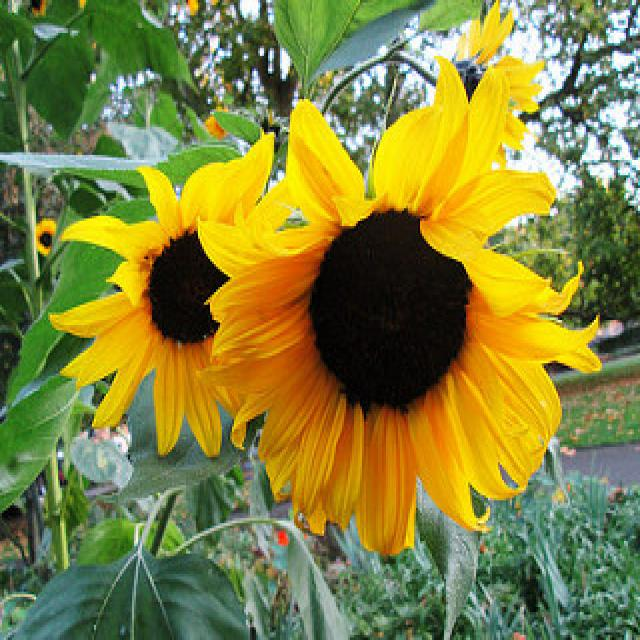sunflower: (191, 49, 607, 555), (42, 120, 320, 468), (33, 222, 61, 255)
